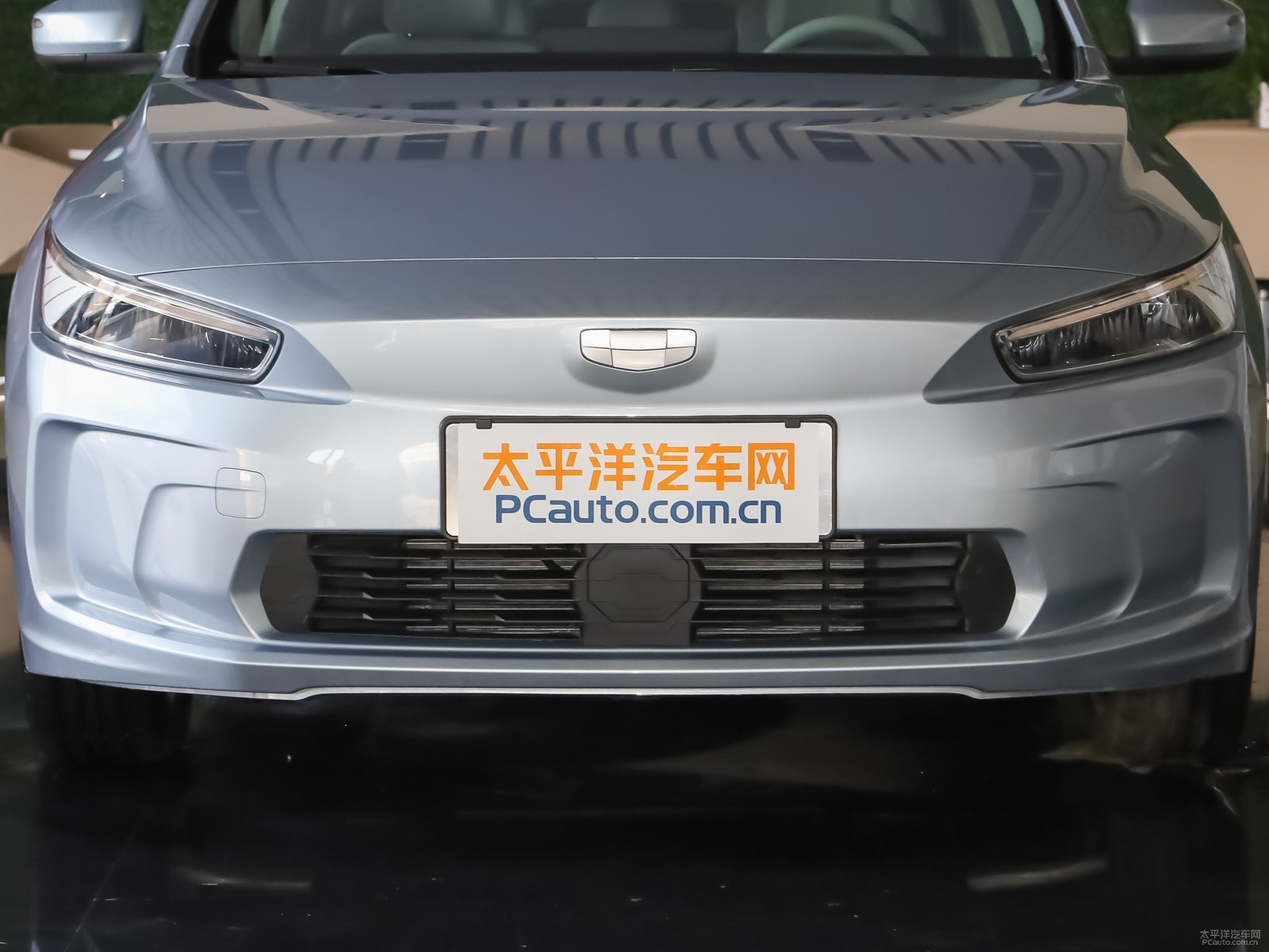GEOMETRY: (581, 330, 696, 370)
